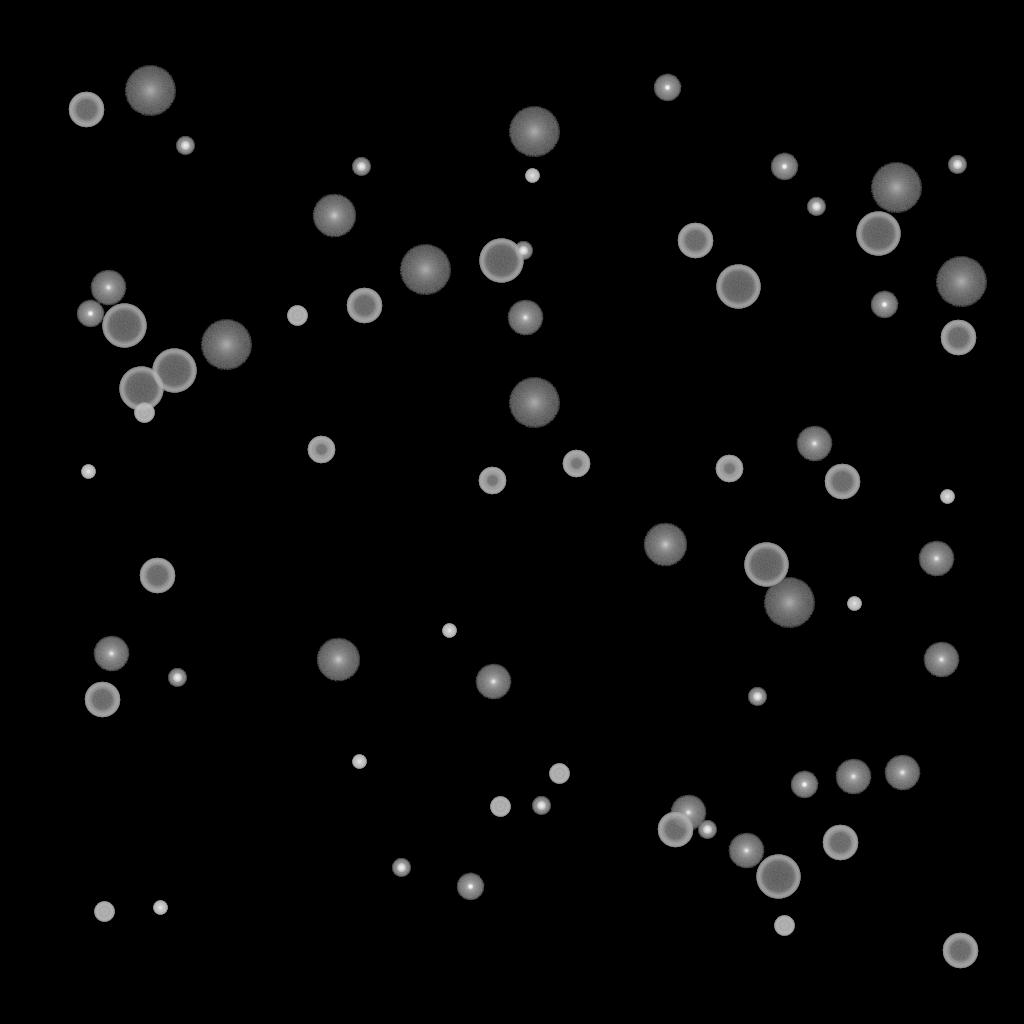depth:-10: (653, 74, 681, 102), (770, 153, 798, 181), (76, 300, 104, 328), (870, 291, 898, 319), (790, 771, 818, 799), (456, 873, 484, 901)
depth:-20: (352, 158, 370, 176), (392, 859, 410, 877), (168, 669, 186, 687), (807, 198, 825, 216), (532, 797, 550, 815), (176, 137, 194, 155), (514, 242, 532, 260), (698, 821, 716, 839), (748, 688, 766, 706), (948, 156, 966, 174)
depth:-30: (847, 597, 861, 611), (940, 490, 954, 504), (352, 755, 366, 769), (153, 901, 167, 915), (525, 169, 539, 183), (81, 465, 95, 479), (442, 624, 456, 638)
depth:-40: (549, 764, 569, 784), (490, 797, 510, 817), (287, 306, 307, 326), (94, 902, 114, 922), (774, 916, 794, 936), (134, 403, 154, 423)
depth:-50: (307, 436, 335, 464), (715, 455, 743, 483), (478, 467, 506, 495), (562, 450, 590, 478)
depth:-60: (346, 288, 382, 324), (824, 464, 860, 500), (822, 825, 858, 861), (84, 682, 120, 718), (68, 92, 104, 128), (940, 320, 976, 356), (657, 812, 693, 848), (942, 933, 978, 969), (139, 558, 175, 594), (677, 223, 713, 259)
depth:-70: (756, 855, 800, 899), (479, 239, 523, 283), (716, 265, 760, 309), (152, 349, 196, 393), (102, 304, 146, 348), (119, 367, 163, 411), (856, 212, 900, 256), (744, 543, 788, 587)
depth:0: (475, 664, 511, 700), (90, 270, 126, 306), (507, 300, 543, 336), (918, 541, 954, 577), (728, 833, 764, 869), (93, 636, 129, 672), (923, 642, 959, 678), (670, 795, 706, 831), (835, 759, 871, 795), (796, 426, 832, 462), (884, 755, 920, 791)
depth:10: (643, 523, 687, 567), (312, 194, 356, 238), (316, 638, 360, 682)
depth:20: (399, 245, 451, 295), (935, 257, 987, 307), (200, 320, 252, 370), (124, 66, 176, 116), (870, 163, 922, 213), (763, 578, 815, 628), (508, 378, 560, 428), (508, 107, 560, 157)
